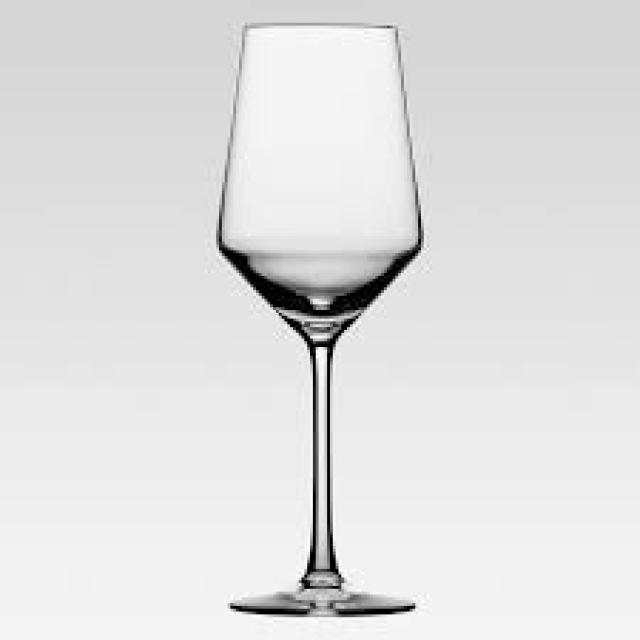glass: (211, 17, 418, 612)
